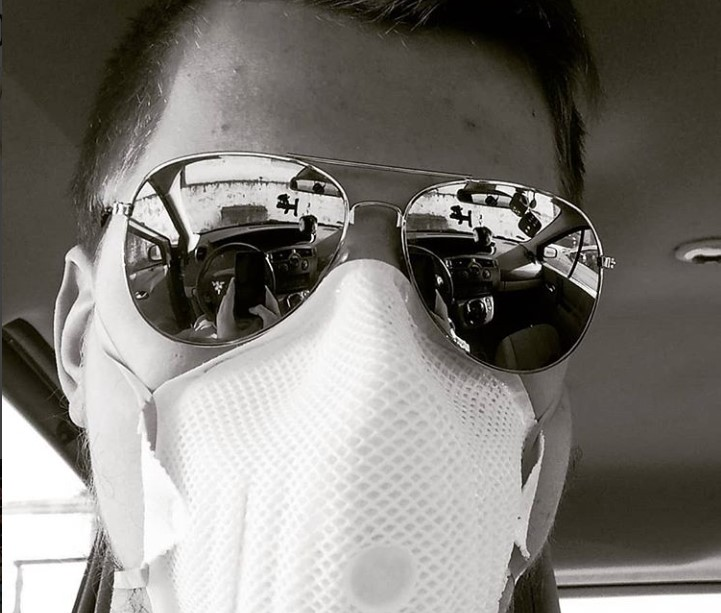face_with_mask: (51, 1, 609, 611)
